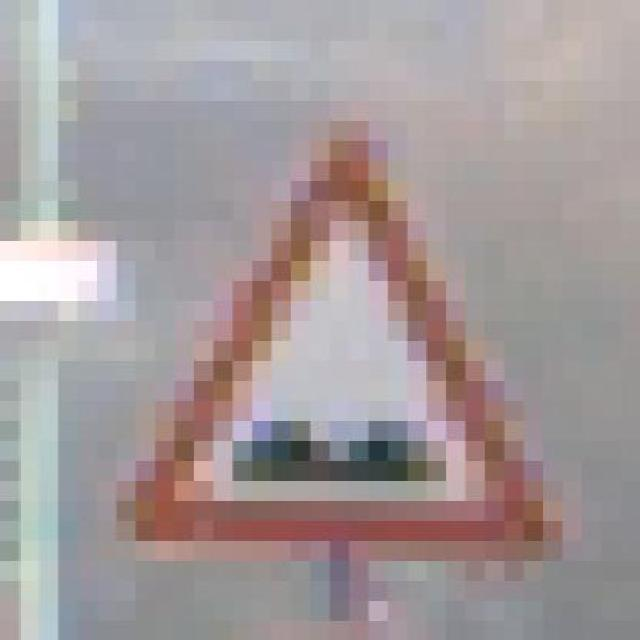Uneven Road: (116, 120, 562, 580)
